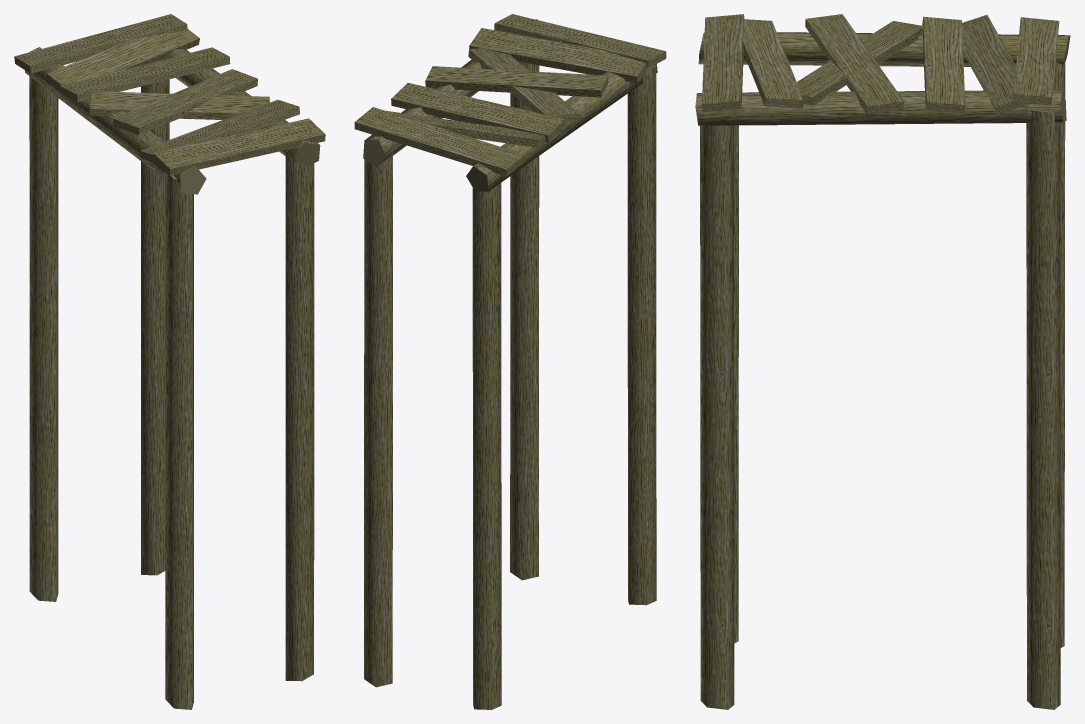
File: jetty02.obj
3 renders of one model, left to right at view 1: azimuth 30°, elevation 25°; view 2: azimuth 150°, elevation 25°; view 3: azimuth 270°, elevation 25°, orthographic. The views are drawn at different scales.
Visible parts, largest first — view 1: Duplicate03, Duplicate02, Duplicate01, Duplicate10, Duplicate04, Duplicate05, Duplicate08, Box01, Duplicate07, Duplicate09, Cylinder02; view 2: Duplicate03, Duplicate01, Duplicate02, Box01, Duplicate09, Duplicate05, Duplicate08, Duplicate10, Duplicate07, Duplicate04, Cylinder02; view 3: Duplicate01, Duplicate02, Duplicate03, Cylinder02, Duplicate08, Duplicate10, Duplicate05, Duplicate09, Duplicate04, Box01, Duplicate07.
Part boxes in pixels (x1,y1,x2,y2): Duplicate03: (24, 47, 206, 709); Duplicate02: (285, 151, 314, 681); Duplicate01: (141, 79, 169, 575); Duplicate10: (153, 118, 325, 175); Duplicate04: (46, 29, 199, 97); Duplicate05: (59, 47, 230, 102); Duplicate08: (113, 69, 257, 135); Box01: (14, 14, 187, 73); Duplicate07: (90, 91, 269, 119); Duplicate09: (140, 99, 300, 162); Cylinder02: (163, 49, 320, 167); Duplicate03: (466, 64, 657, 709); Duplicate01: (364, 153, 392, 687); Duplicate02: (510, 62, 539, 580); Box01: (354, 107, 525, 176); Duplicate09: (469, 28, 647, 83); Duplicate05: (391, 83, 565, 142); Duplicate08: (425, 66, 608, 97); Duplicate10: (494, 14, 666, 67); Duplicate07: (468, 48, 578, 122); Duplicate04: (385, 110, 546, 147); Cylinder02: (363, 19, 537, 168); Duplicate01: (1026, 109, 1060, 709); Duplicate02: (700, 125, 734, 709); Duplicate03: (698, 32, 1070, 647); Cylinder02: (695, 89, 1066, 125); Duplicate08: (805, 14, 904, 114); Duplicate10: (702, 14, 744, 112); Duplicate05: (922, 16, 965, 113); Duplicate09: (743, 19, 803, 108); Duplicate04: (962, 15, 1030, 114); Box01: (1013, 17, 1059, 105); Duplicate07: (797, 21, 923, 105).
Size of the model in its own units: 48.56 by 160 by 87.38.
